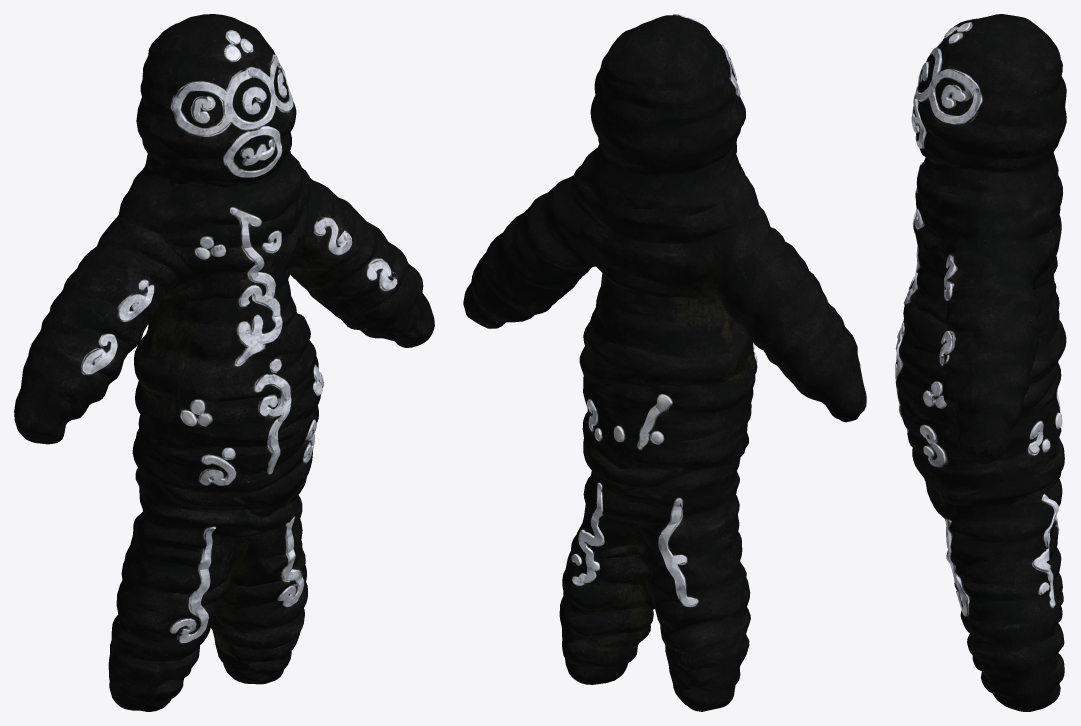
File: w5hunphayon.glb
3 renders of one model, left to right at view 1: azimuth 30°, elevation 25°; view 2: azimuth 150°, elevation 25°; view 3: azimuth 270°, elevation 25°, orthographic. The views are drawn at different scales.
Parts seen in each view (by area): view 1: output_unwrapped; view 2: output_unwrapped; view 3: output_unwrapped.
Boxes of the visible parts, x1,y1,x2,y2 form: output_unwrapped: [14, 14, 434, 711]; output_unwrapped: [463, 14, 866, 711]; output_unwrapped: [895, 14, 1066, 711].
Size of the model in its own units: 0.0634 by 0.1 by 0.0236.
1 material, 1 textured.
